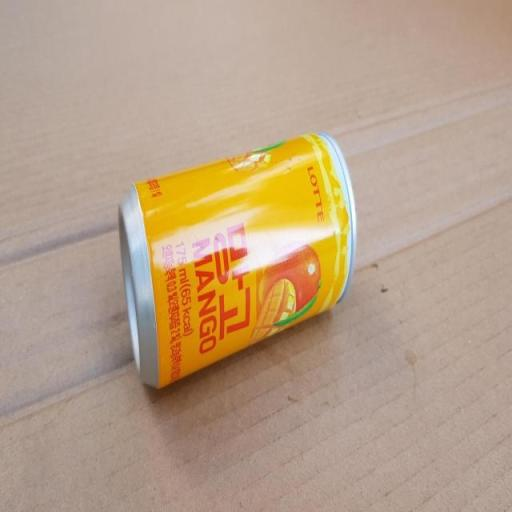metal: (114, 124, 368, 398)
